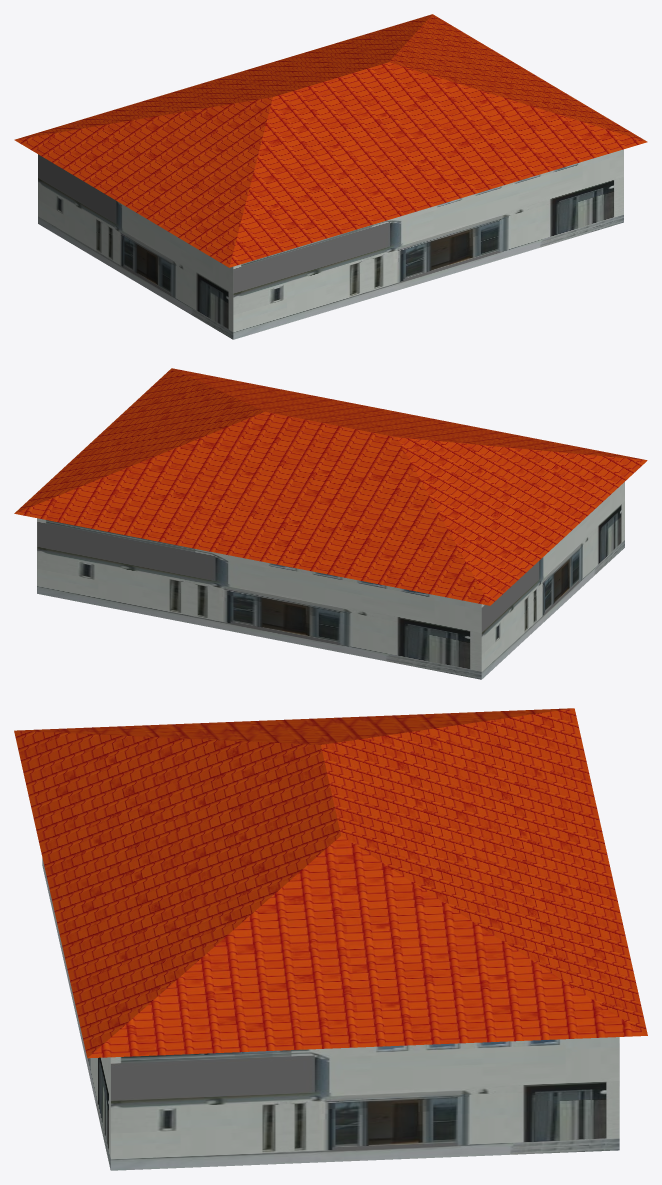
3 renders of one model, top to bottom at view 1: azimuth 30°, elevation 25°; view 2: azimuth 150°, elevation 25°; view 3: azimuth 270°, elevation 25°, orthographic. The views are drawn at different scales.
Visible parts, largest first — view 1: CityEngineMaterial_12_m, CityEngineMaterial_11_m; view 2: CityEngineMaterial_12_m, CityEngineMaterial_11_m; view 3: CityEngineMaterial_12_m, CityEngineMaterial_11_m.
Boxes of the visible parts, x1=… form: CityEngineMaterial_12_m: x1=14, y1=14, x2=647, y2=267; CityEngineMaterial_11_m: x1=38, y1=149, x2=623, y2=339; CityEngineMaterial_12_m: x1=14, y1=368, x2=647, y2=605; CityEngineMaterial_11_m: x1=37, y1=482, x2=624, y2=679; CityEngineMaterial_12_m: x1=14, y1=708, x2=647, y2=1058; CityEngineMaterial_11_m: x1=42, y1=858, x2=619, y2=1170.
Bounding box in the file's own units: 30.04 × 8.7 × 22.99.
